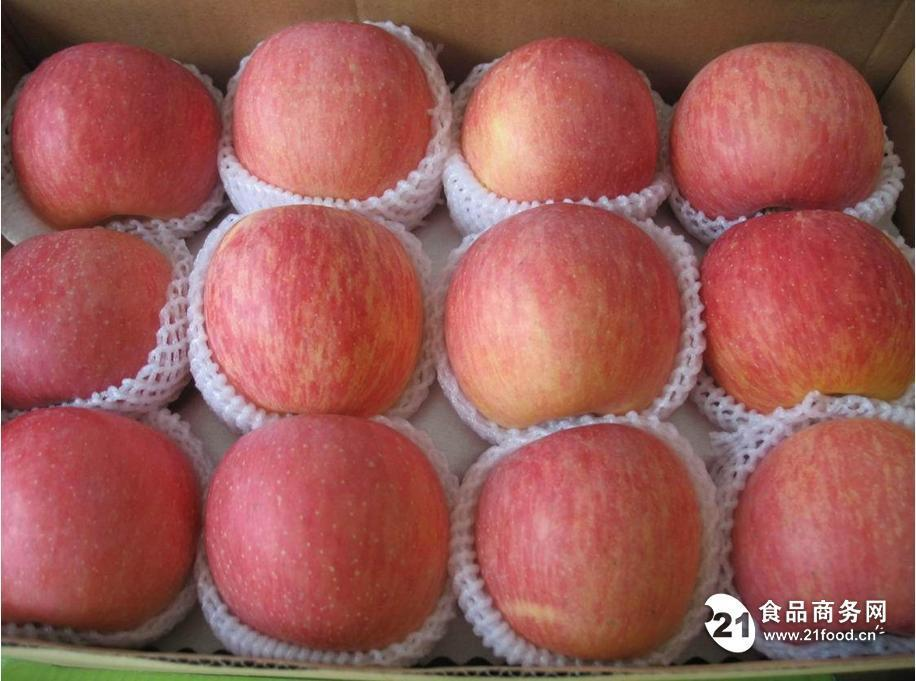apple: (193, 416, 449, 664), (450, 431, 708, 668), (435, 214, 687, 443), (196, 206, 430, 425), (1, 408, 201, 645), (223, 19, 448, 220), (663, 37, 888, 235), (697, 214, 910, 421), (5, 37, 225, 234), (730, 413, 912, 647), (455, 31, 661, 215), (2, 226, 188, 426)
